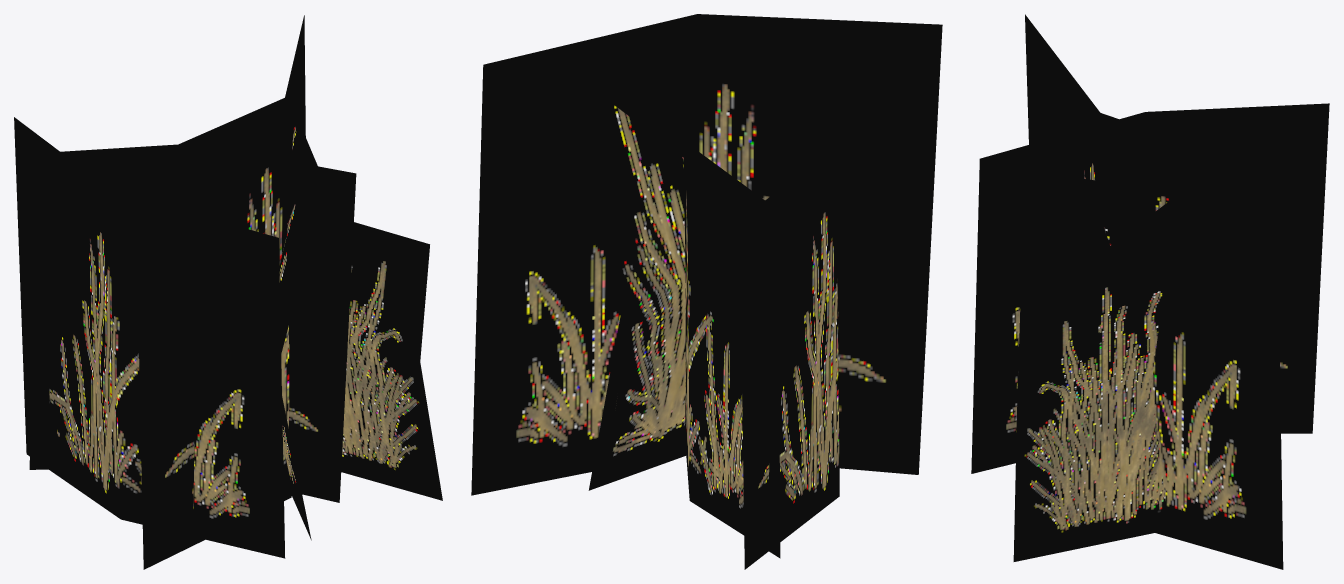
The model's file is valley-dry-grass-1.glb.
The picture shows the model from 3 angles, left to right: view 1: azimuth 30°, elevation 25°; view 2: azimuth 150°, elevation 25°; view 3: azimuth 270°, elevation 25°; orthographic projection. The views are drawn at different scales.
Parts seen in each view (by area): view 1: clump_dry_grass_7_M_dry_grass_0; view 2: clump_dry_grass_7_M_dry_grass_0; view 3: clump_dry_grass_7_M_dry_grass_0.
Boxes of the visible parts, x1,y1,x2,y2 form: clump_dry_grass_7_M_dry_grass_0: (14, 15, 442, 569); clump_dry_grass_7_M_dry_grass_0: (471, 14, 942, 569); clump_dry_grass_7_M_dry_grass_0: (971, 14, 1329, 569).
Bounding box in the file's own units: 0.4941 × 0.65 × 0.509.
1 material, 1 textured.
